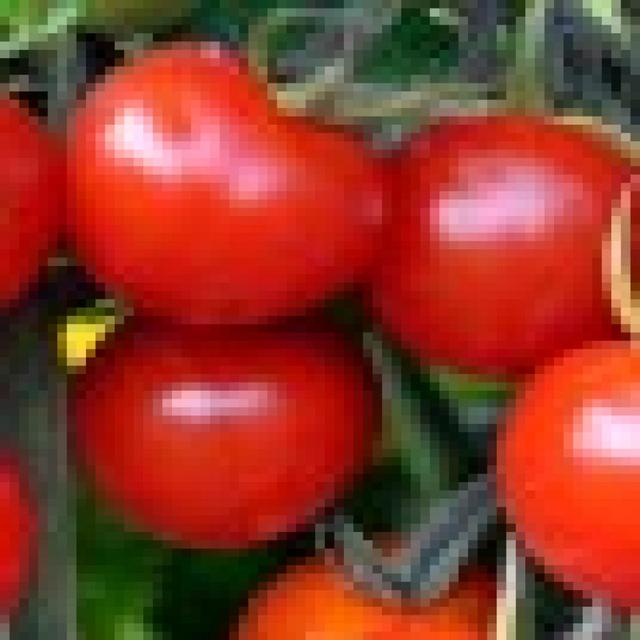Healthy Fruit: (89, 122, 380, 325)
